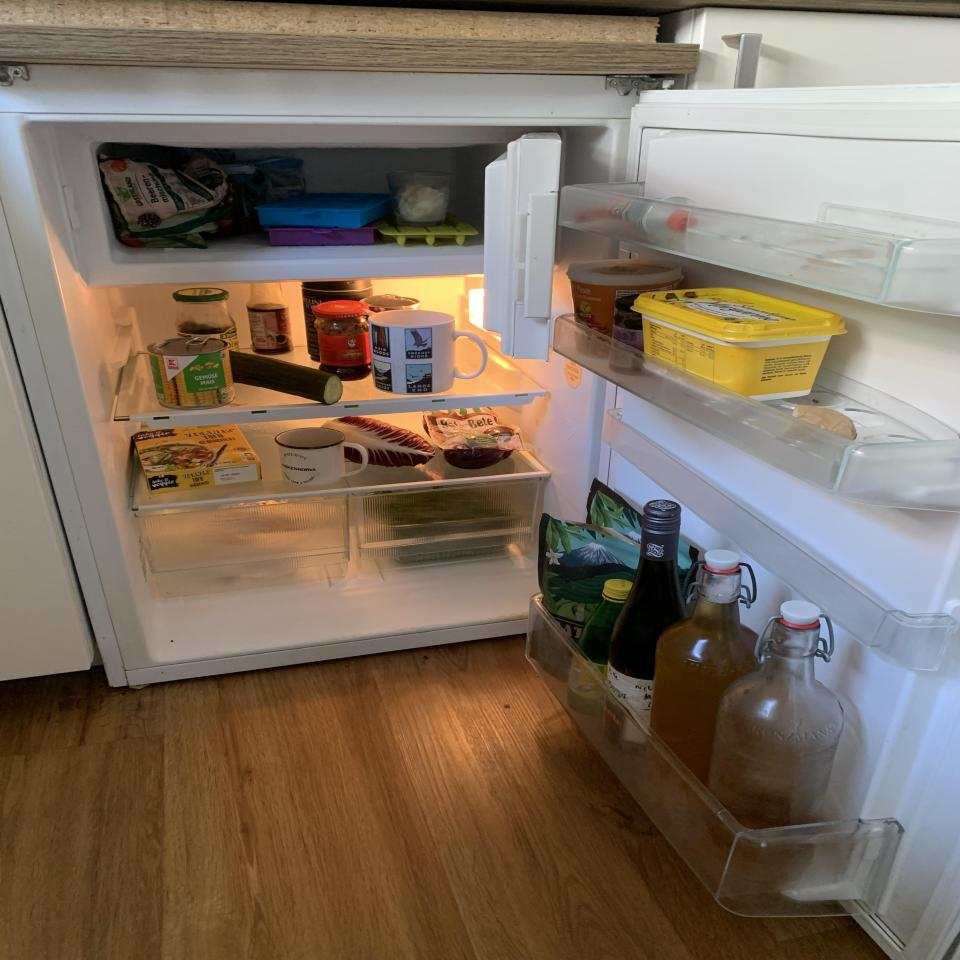Pepino: (230, 352, 344, 404)
